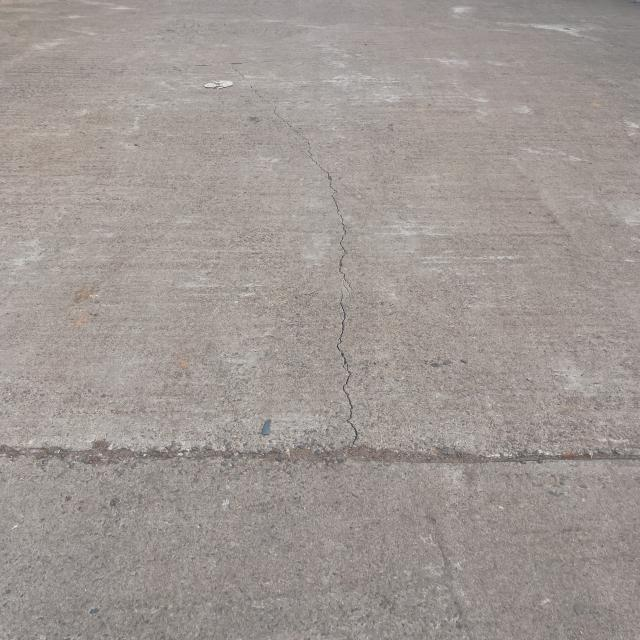D11: (51, 418, 624, 494)
